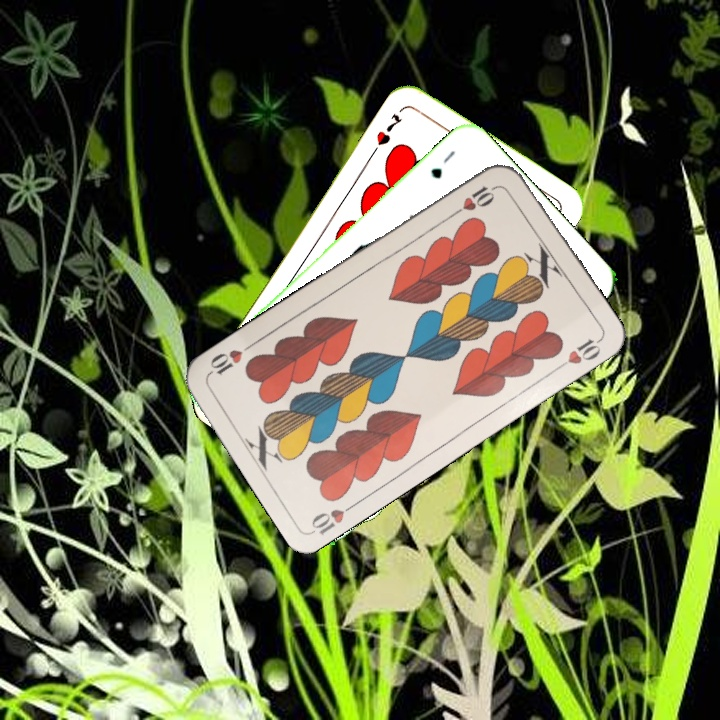GU: (426, 146, 458, 182)
H10: (307, 497, 361, 537), (448, 181, 501, 219)
H7: (372, 109, 405, 149)
